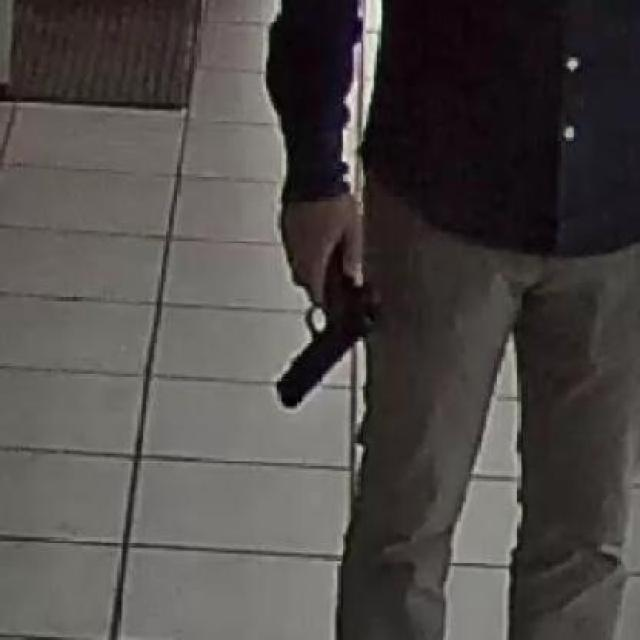gun: (266, 248, 386, 414)
